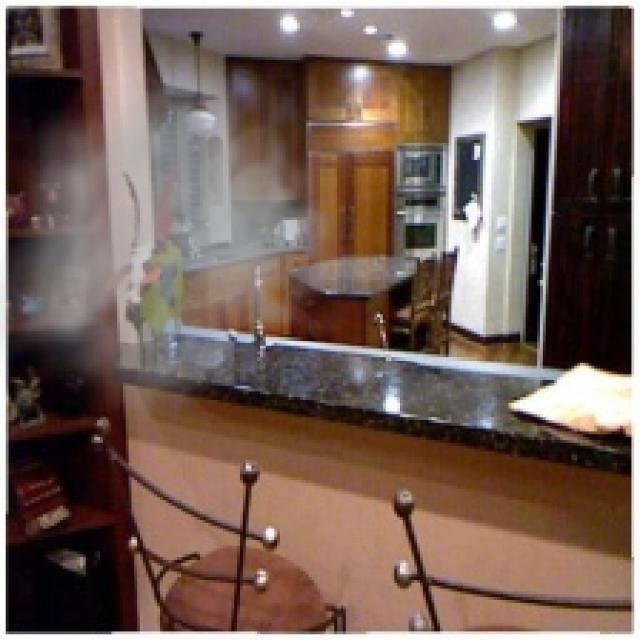smoke: (0, 49, 377, 428)
